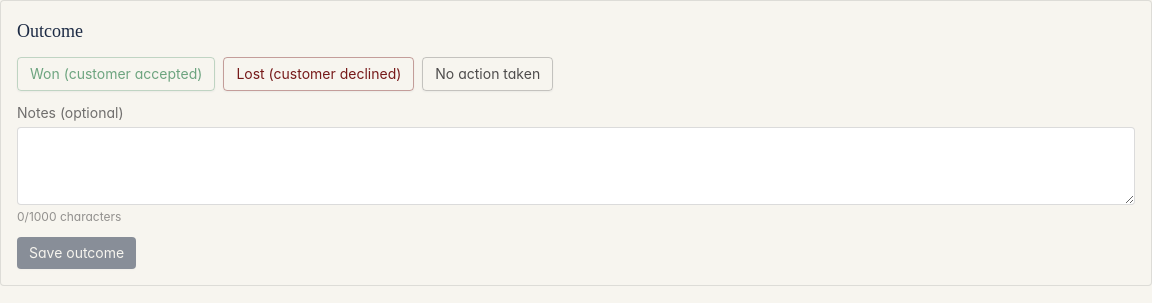
Test: OutcomeCaptureSection (HUB-1641) › AC#3 — note textarea + char counter + cap › typing updates the char count
This screenshot has width=1152, height=303.
Type "Hello" into the text box with test id "outcome-note-textarea" at [576, 166], box [17,127,1135,205]
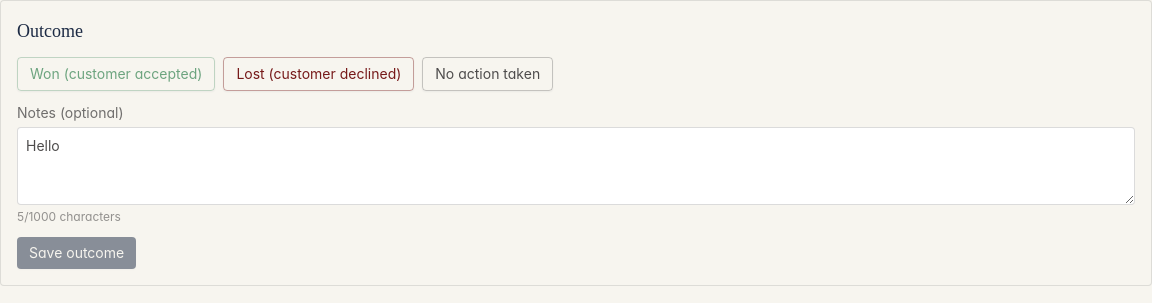
Check: the text with test id "outcome-note-char-count" shows "5/1000", box [17,209,121,224]
